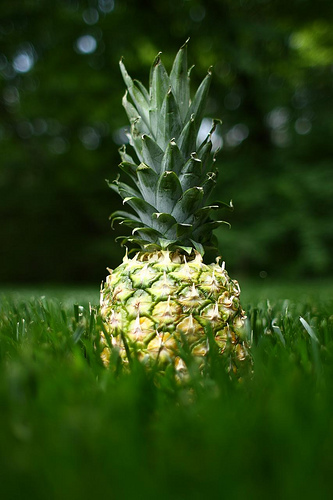pineapple: (95, 36, 251, 396)
